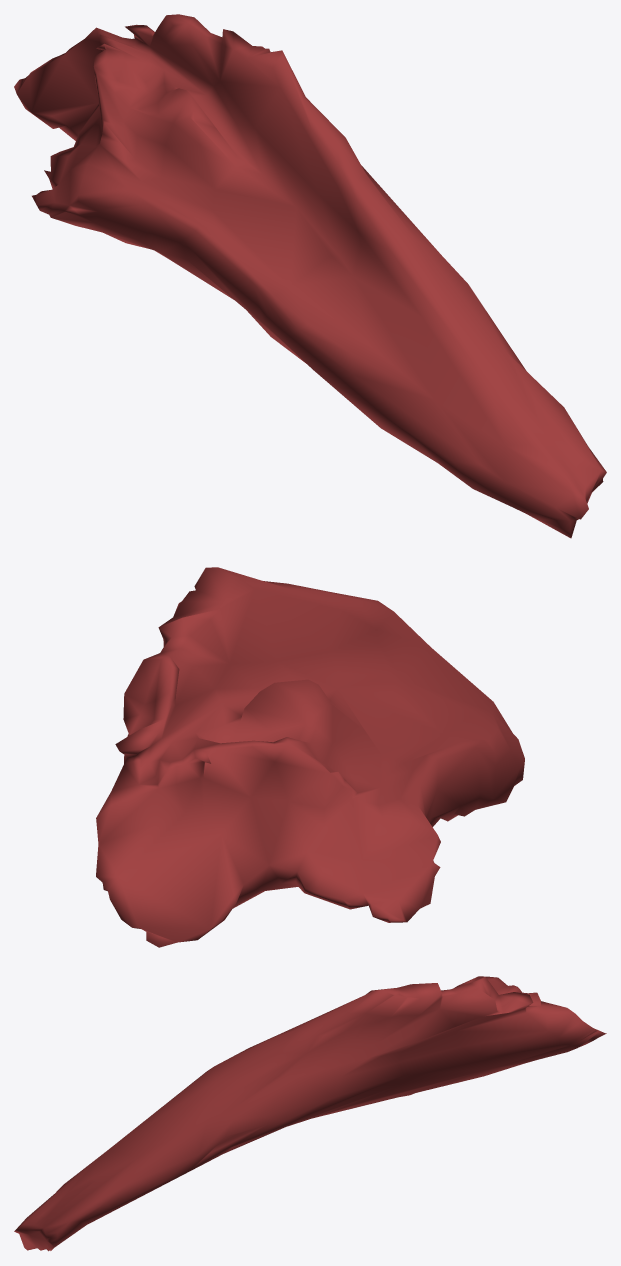
The model's file is oblique-head-of-adductor-hallucis-r.glb.
3 views of the same model, one above another, from view 1: azimuth 30°, elevation 25°; view 2: azimuth 150°, elevation 25°; view 3: azimuth 270°, elevation 25° (orthographic). The views are drawn at different scales.
Visible parts, largest first — view 1: Oblique head of adductor hallucis.r; view 2: Oblique head of adductor hallucis.r; view 3: Oblique head of adductor hallucis.r.
Part boxes in pixels (x1,y1,x2,y2): Oblique head of adductor hallucis.r: (14,14,606,538); Oblique head of adductor hallucis.r: (96,567,524,947); Oblique head of adductor hallucis.r: (14,976,606,1251).
Bounding box in the file's own units: 0.028 × 0.0301 × 0.0668.
